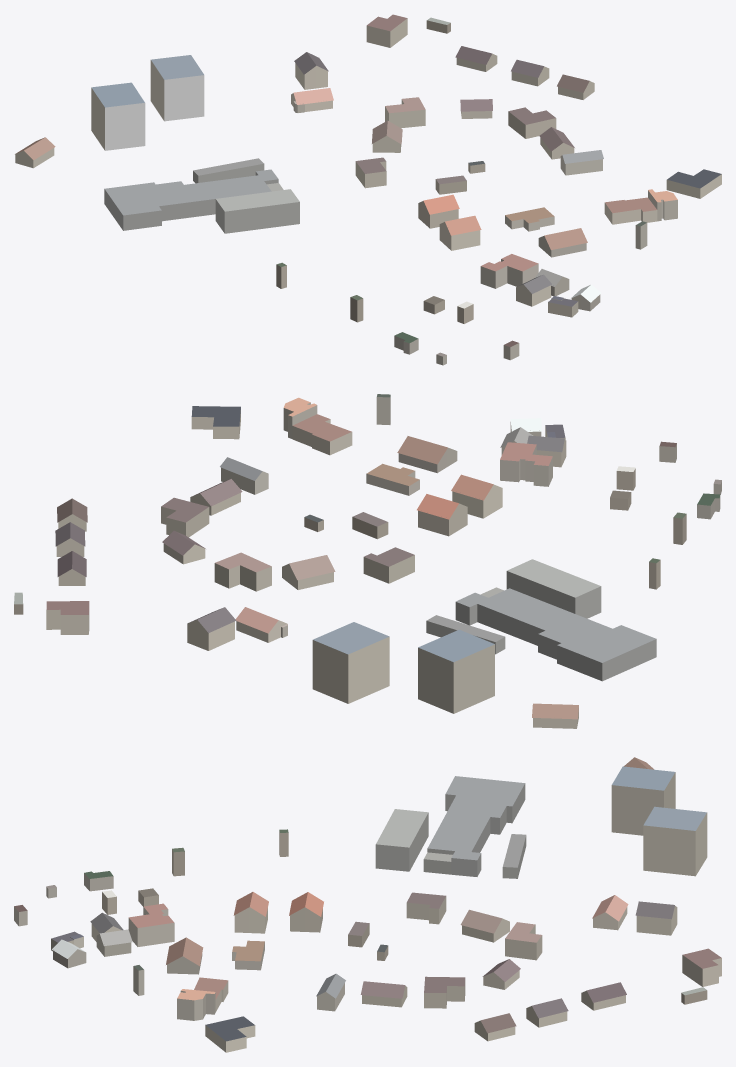
The picture shows the model from 3 angles, top to bottom: view 1: azimuth 30°, elevation 25°; view 2: azimuth 150°, elevation 25°; view 3: azimuth 270°, elevation 25°; orthographic projection. The views are drawn at different scales.
Visible parts, largest first — view 1: tuile; view 2: tuile; view 3: tuile.
Boxes of the visible parts, bbox=[...] form: tuile: bbox=[15, 14, 721, 365]; tuile: bbox=[14, 394, 721, 728]; tuile: bbox=[14, 757, 721, 1052].
Bounding box in the file's own units: 228 × 34.92 × 248.
